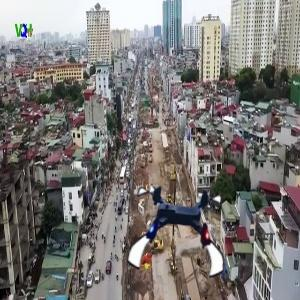drone: (131, 183, 232, 284)
